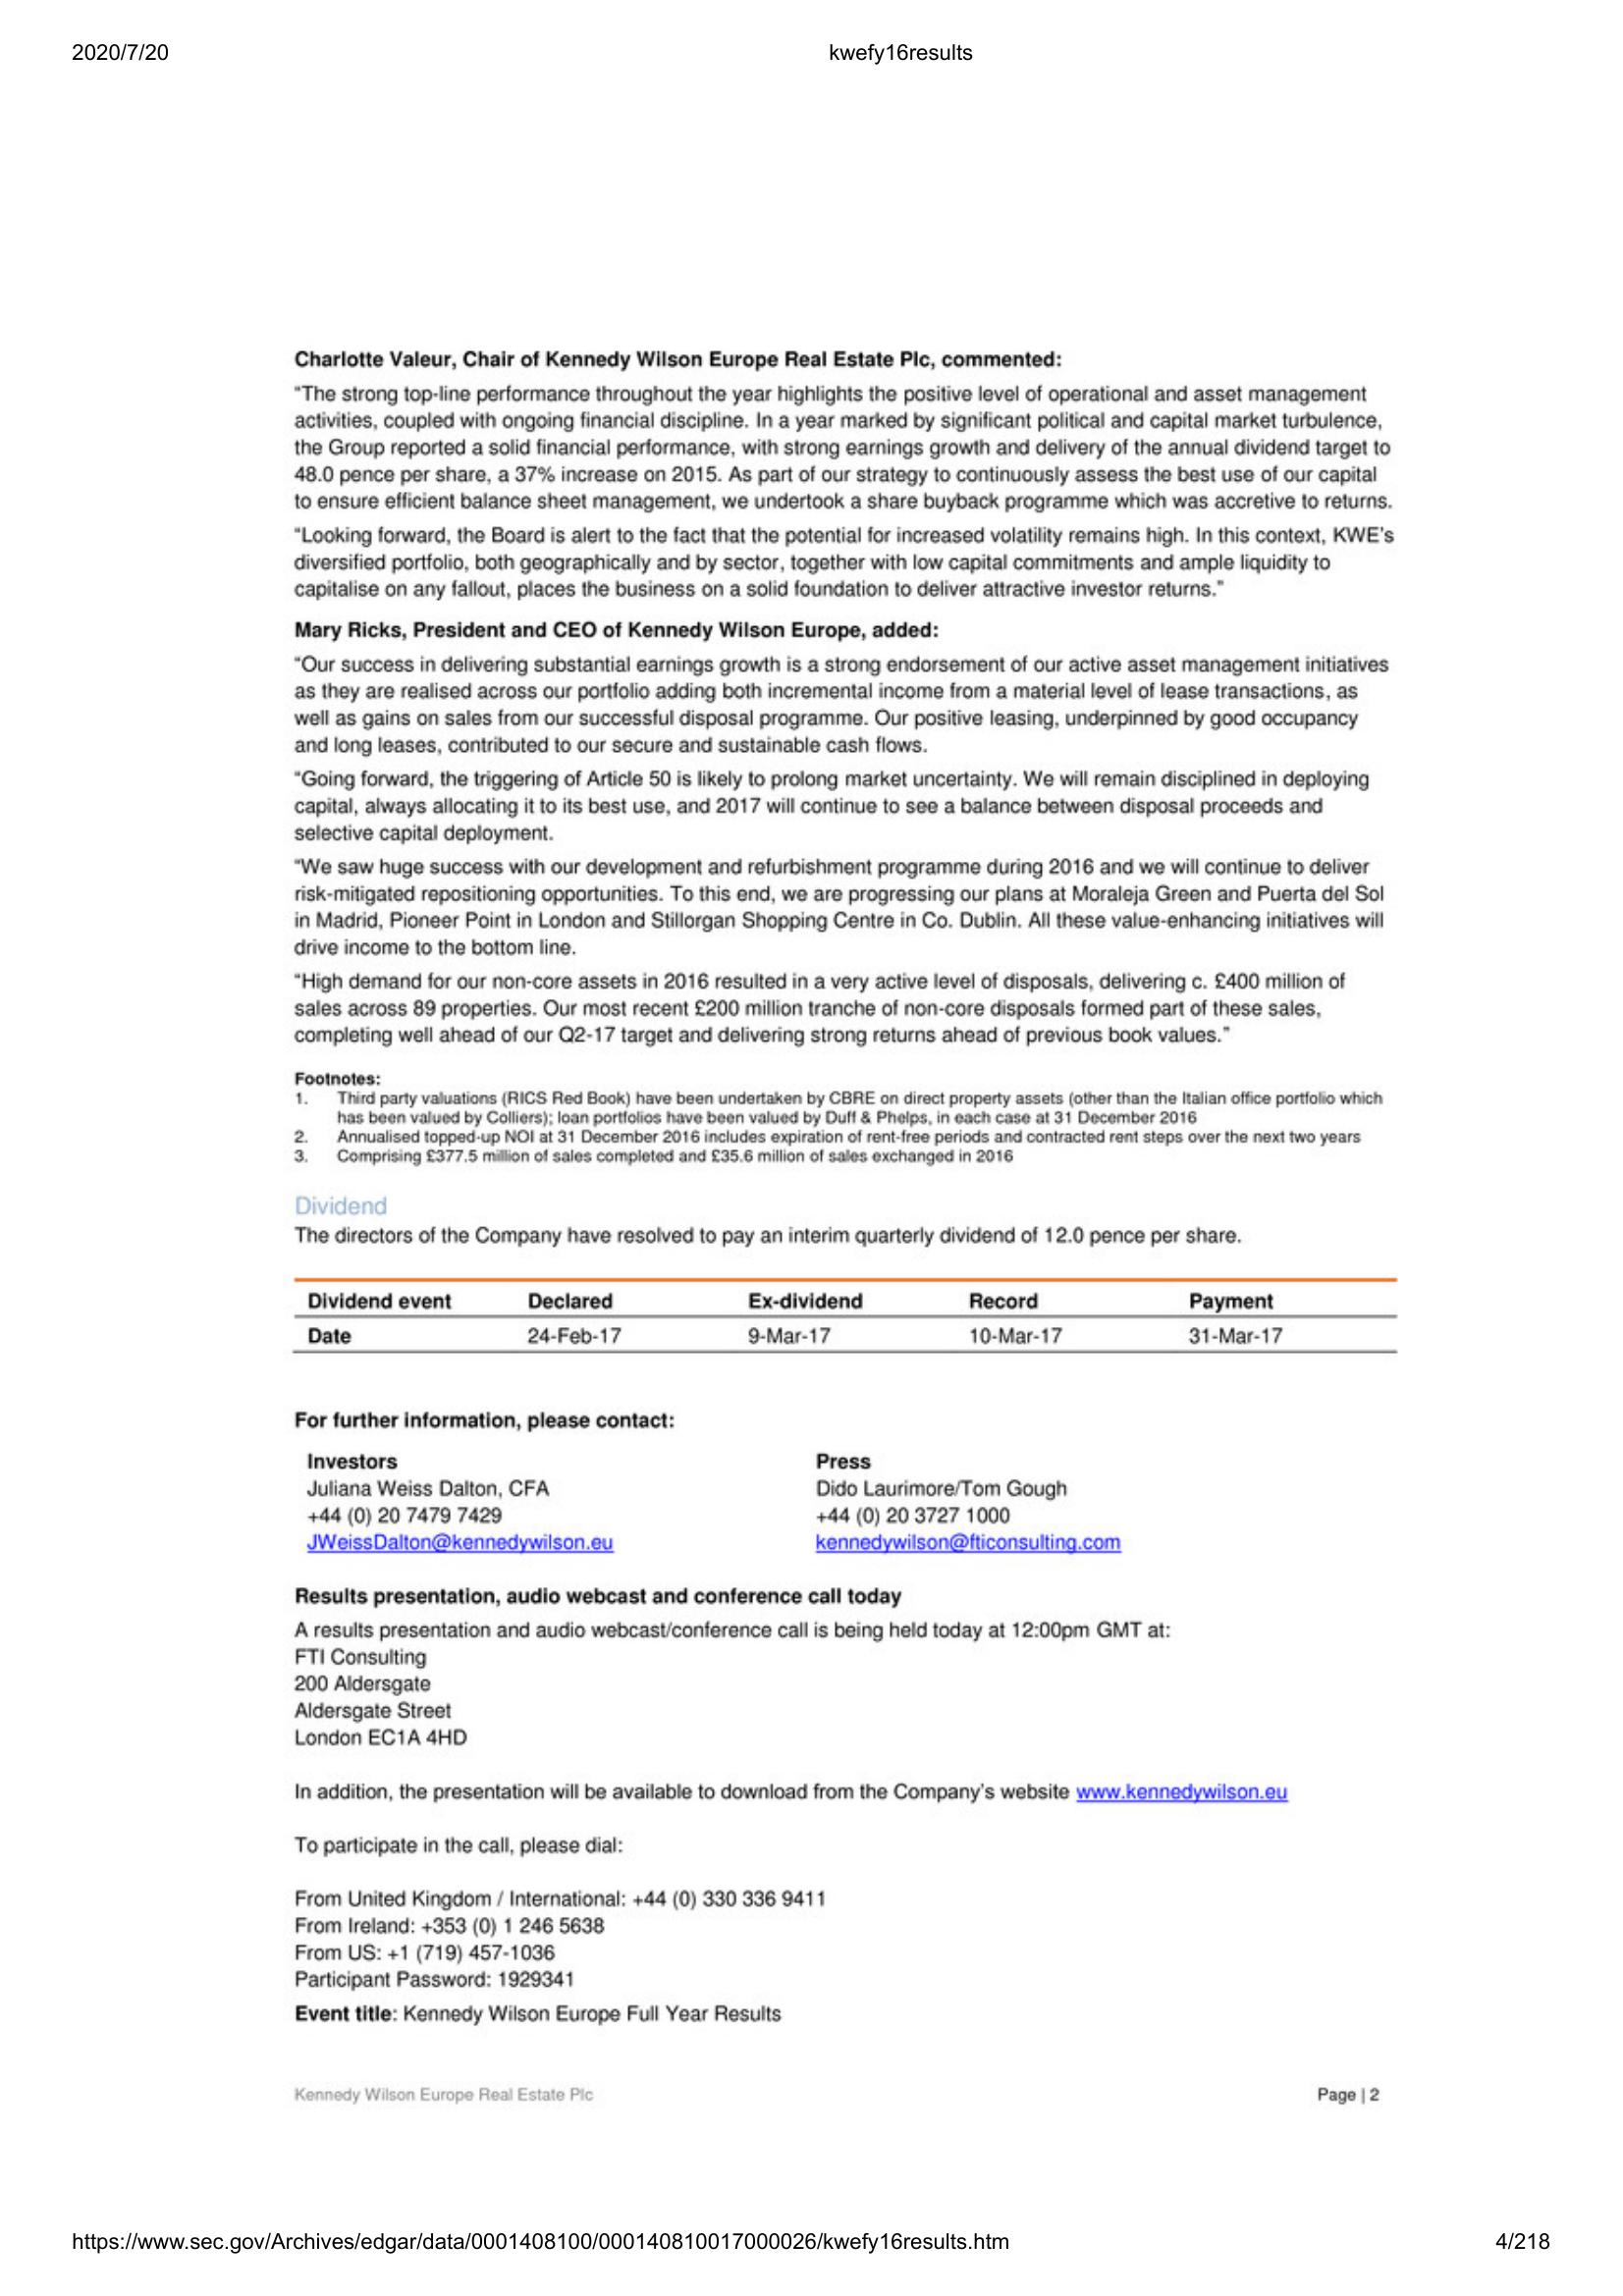table: (281, 1266, 1409, 1362)
